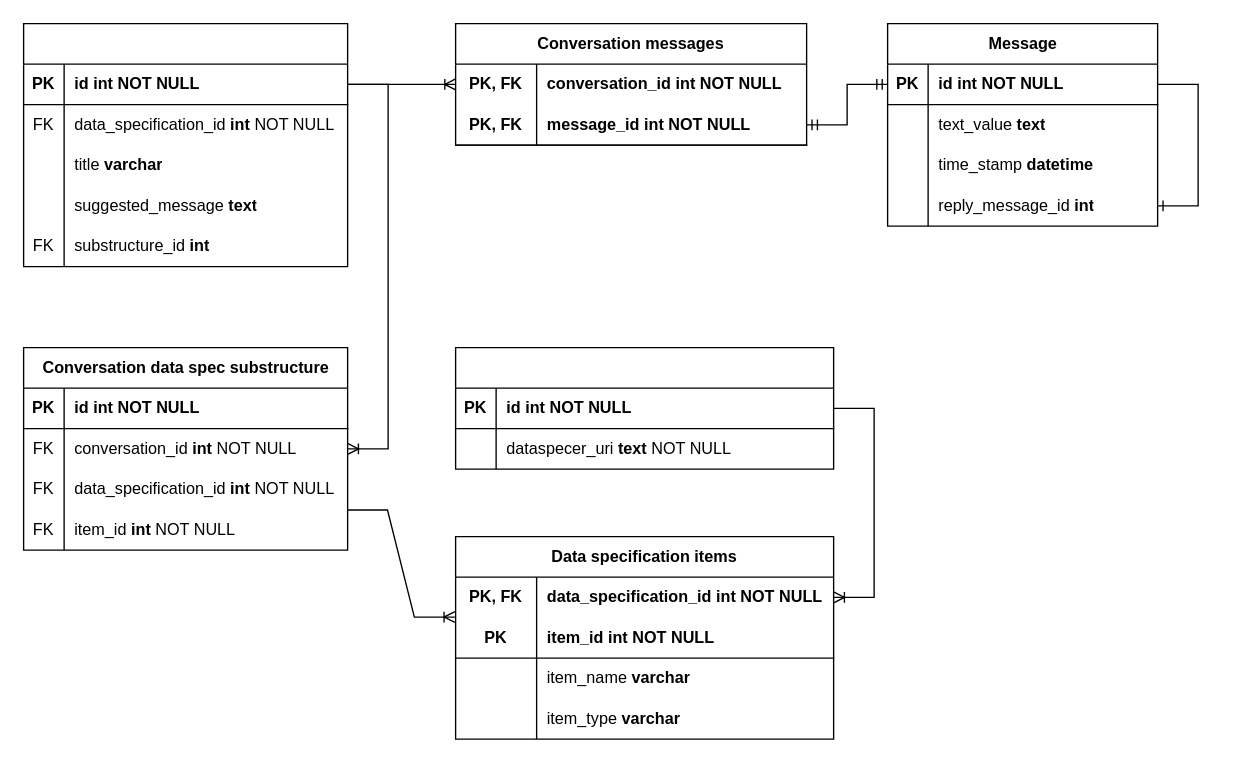
Image size: 1233x763. Some labels were removed from this diagram. The box of each missing label's shape, as (x1, y1, x2, y2) in pixels:
Conversation: (22, 22, 348, 267)
Data specification: (454, 346, 834, 469)
